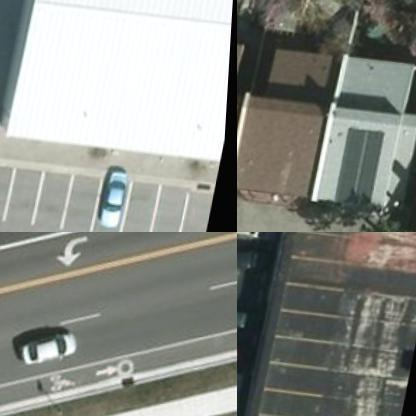car: (14, 322, 83, 370), (97, 167, 132, 228), (237, 240, 276, 277), (237, 298, 267, 333), (237, 334, 258, 374), (237, 367, 248, 399)
